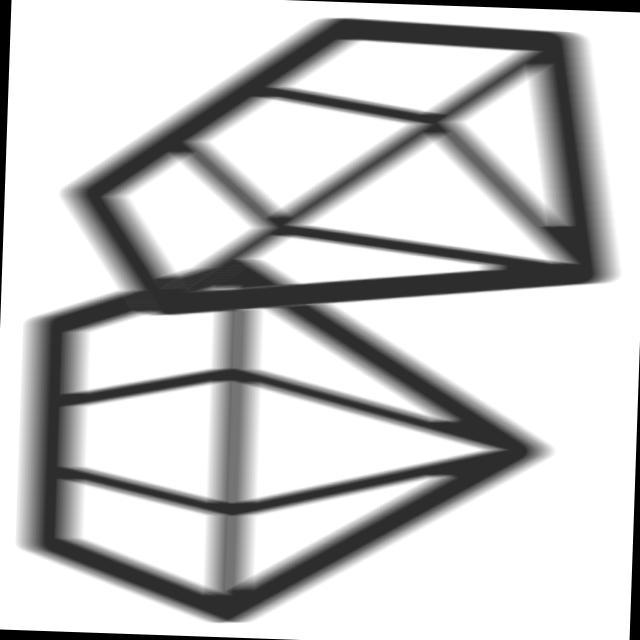diamond: (9, 247, 568, 640), (47, 1, 639, 340)
